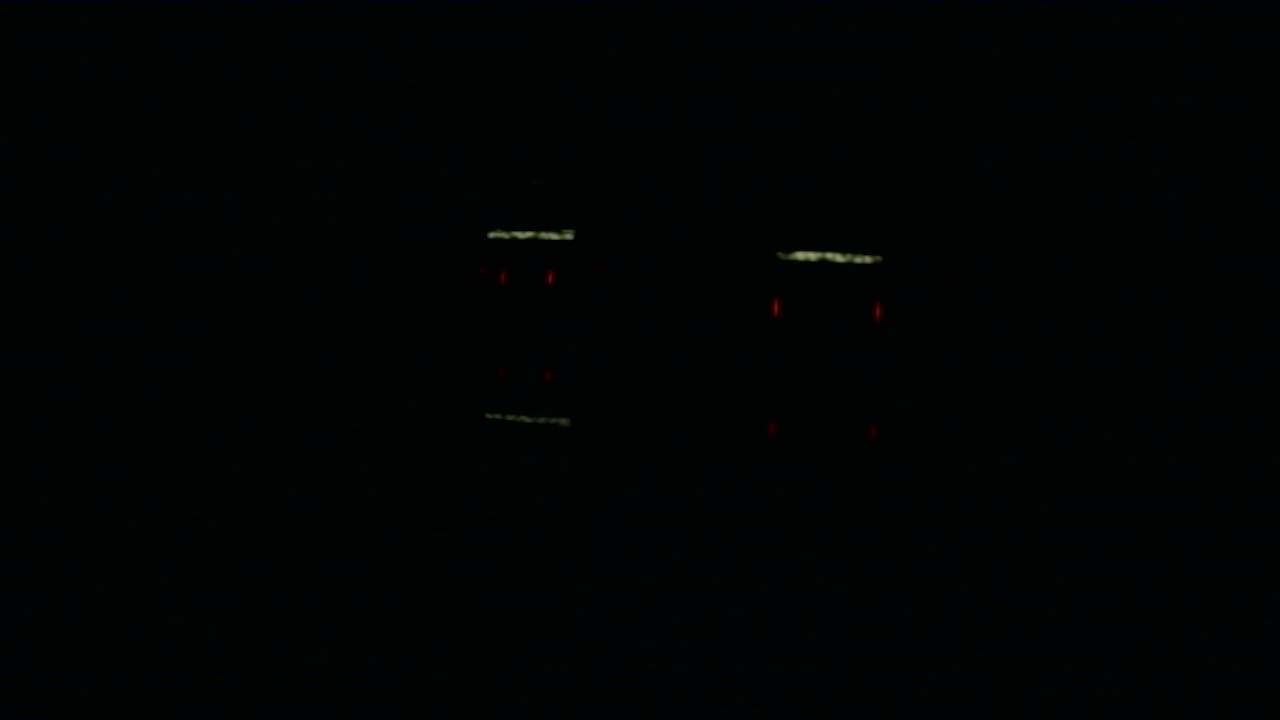lamp: (873, 294, 883, 322), (769, 295, 780, 319), (547, 270, 554, 282), (500, 270, 506, 283)
pair1: (500, 270, 553, 283)
pair2: (770, 295, 883, 322)
